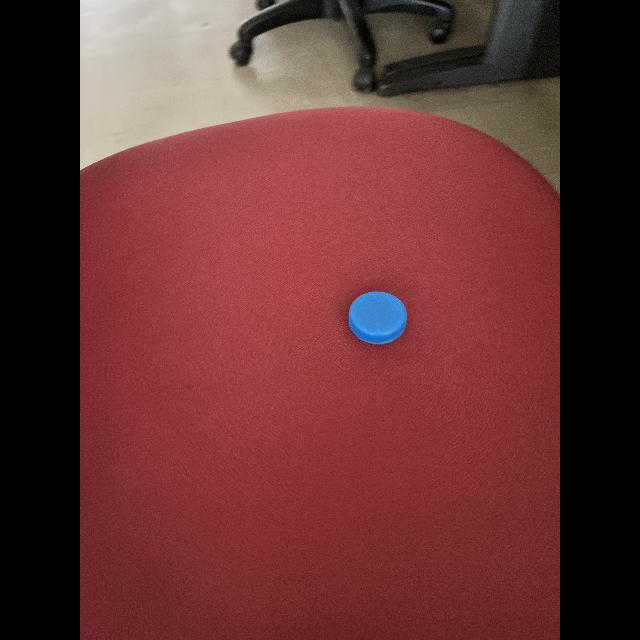plastic_bottle_cap: (341, 290, 412, 346)
